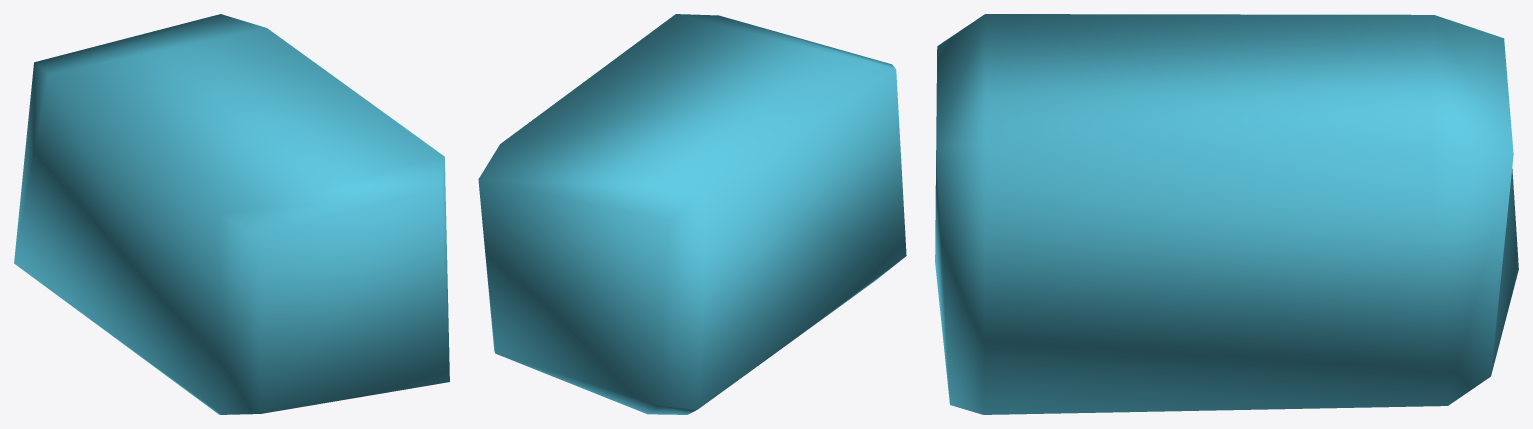
File: brick_11.FBX
3 renders of one model, left to right at view 1: azimuth 30°, elevation 25°; view 2: azimuth 150°, elevation 25°; view 3: azimuth 270°, elevation 25°, orthographic. The views are drawn at different scales.
Visible parts, largest first — view 1: brick_11; view 2: brick_11; view 3: brick_11.
Part boxes in pixels (x1,y1,x2,y2): brick_11: (14,14,449,414); brick_11: (478,14,906,414); brick_11: (935,14,1518,414).
Size of the model in its own units: 9.77 by 8.82 by 17.29.
